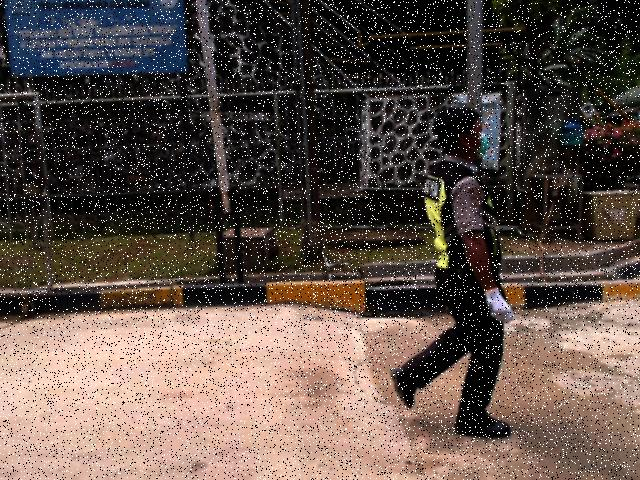gloves: (482, 284, 519, 328)
mask: (477, 132, 489, 159)
safety-shoes: (453, 411, 513, 440), (388, 362, 418, 413)
